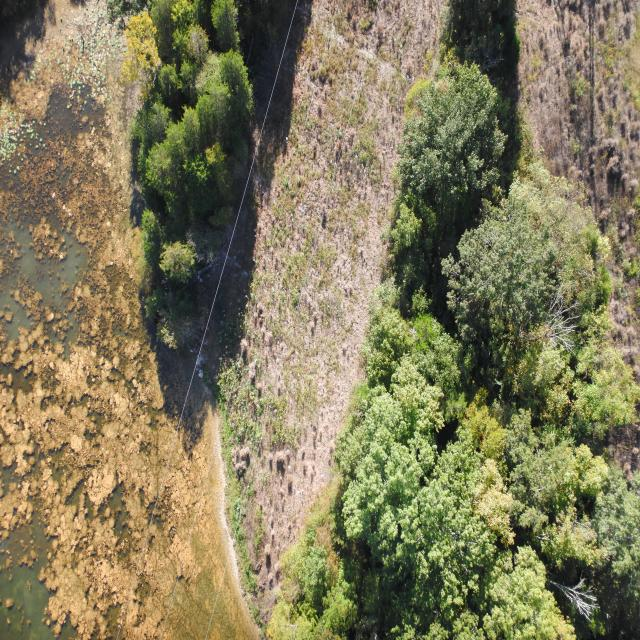Area of Interest: (296, 46, 632, 634), (133, 6, 250, 335)
